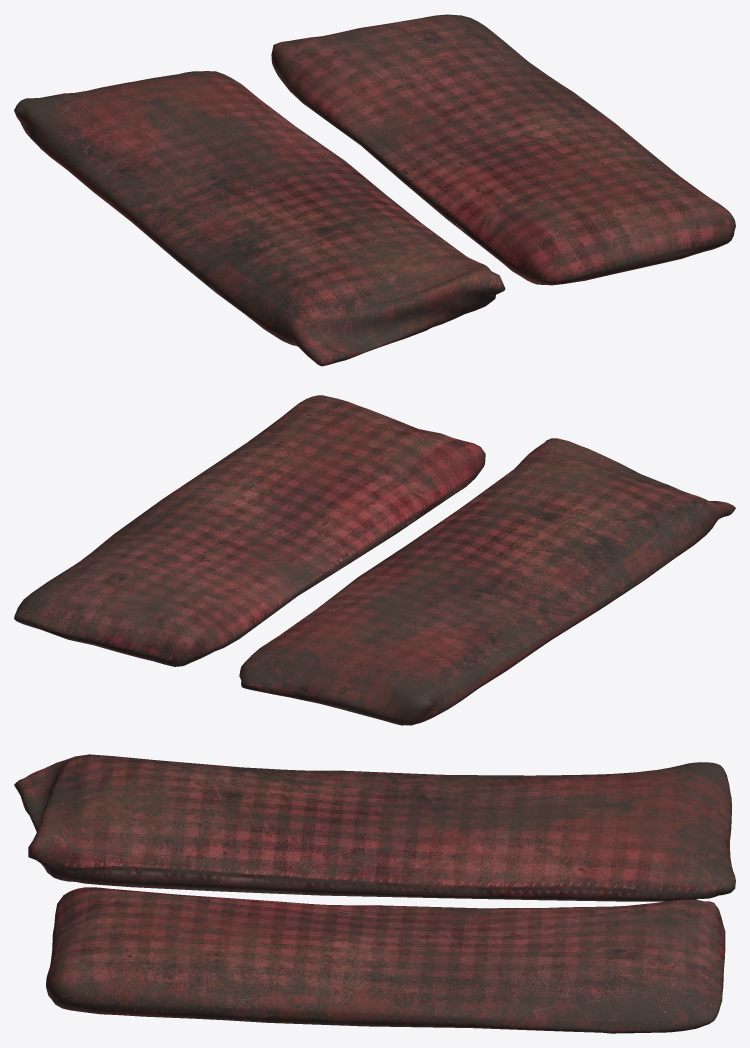
File: mattress.obj
The picture shows the model from 3 angles, top to bottom: view 1: azimuth 30°, elevation 25°; view 2: azimuth 150°, elevation 25°; view 3: azimuth 270°, elevation 25°; orthographic projection. The views are drawn at different scales.
Visible parts, largest first — view 1: Dirt_Mattress_2_for_Unreal.001_Mattresses_4k_0, Dirt_Mattress_1_for_Unreal_Mattresses_4k_0; view 2: Dirt_Mattress_2_for_Unreal.001_Mattresses_4k_0, Dirt_Mattress_1_for_Unreal_Mattresses_4k_0; view 3: Dirt_Mattress_2_for_Unreal.001_Mattresses_4k_0, Dirt_Mattress_1_for_Unreal_Mattresses_4k_0.
Part boxes in pixels (bbox=[...]): Dirt_Mattress_2_for_Unreal.001_Mattresses_4k_0: bbox=[14, 71, 505, 366]; Dirt_Mattress_1_for_Unreal_Mattresses_4k_0: bbox=[271, 14, 735, 285]; Dirt_Mattress_2_for_Unreal.001_Mattresses_4k_0: bbox=[239, 438, 735, 725]; Dirt_Mattress_1_for_Unreal_Mattresses_4k_0: bbox=[14, 395, 485, 666]; Dirt_Mattress_2_for_Unreal.001_Mattresses_4k_0: bbox=[14, 754, 735, 901]; Dirt_Mattress_1_for_Unreal_Mattresses_4k_0: bbox=[46, 887, 725, 1033].
Size of the model in its own units: 1.73 by 0.1662 by 2.08.
